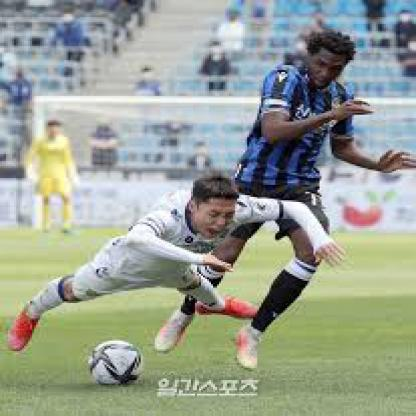Fall_Down: (9, 166, 352, 354)
